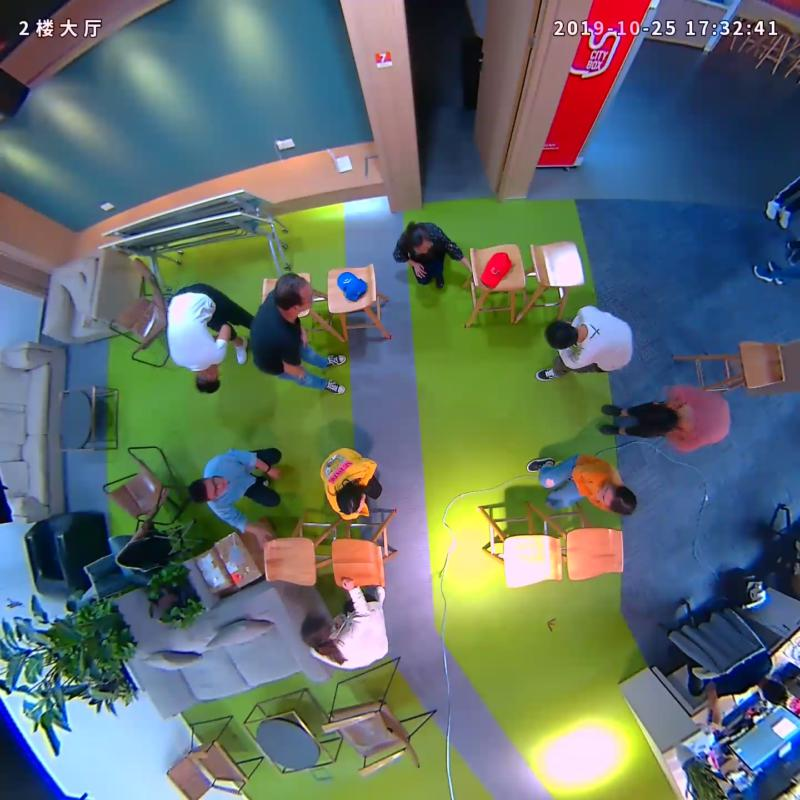head: (270, 270, 320, 323), (590, 475, 645, 520), (635, 399, 688, 443), (293, 608, 338, 655), (540, 313, 586, 354), (182, 471, 229, 508), (329, 479, 372, 519), (400, 224, 438, 264), (188, 368, 226, 397)
